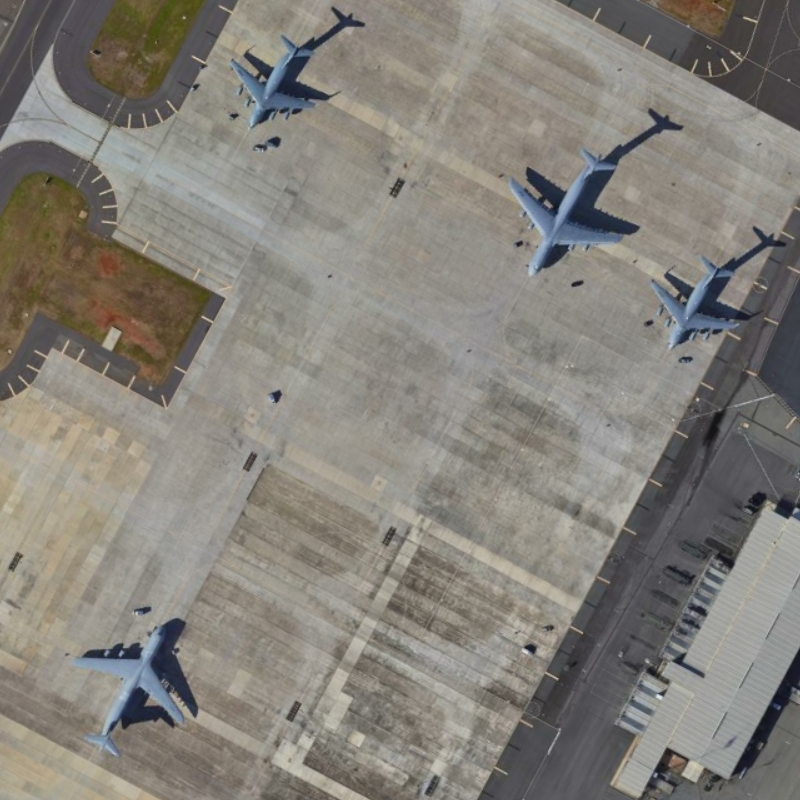A3: (227, 31, 326, 132), (648, 252, 744, 354)
A4: (67, 620, 190, 761), (506, 144, 626, 282)
